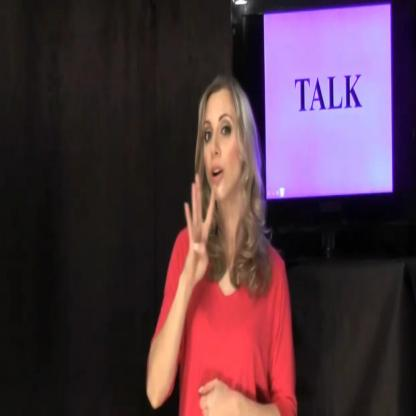Talk: (178, 78, 273, 311)
